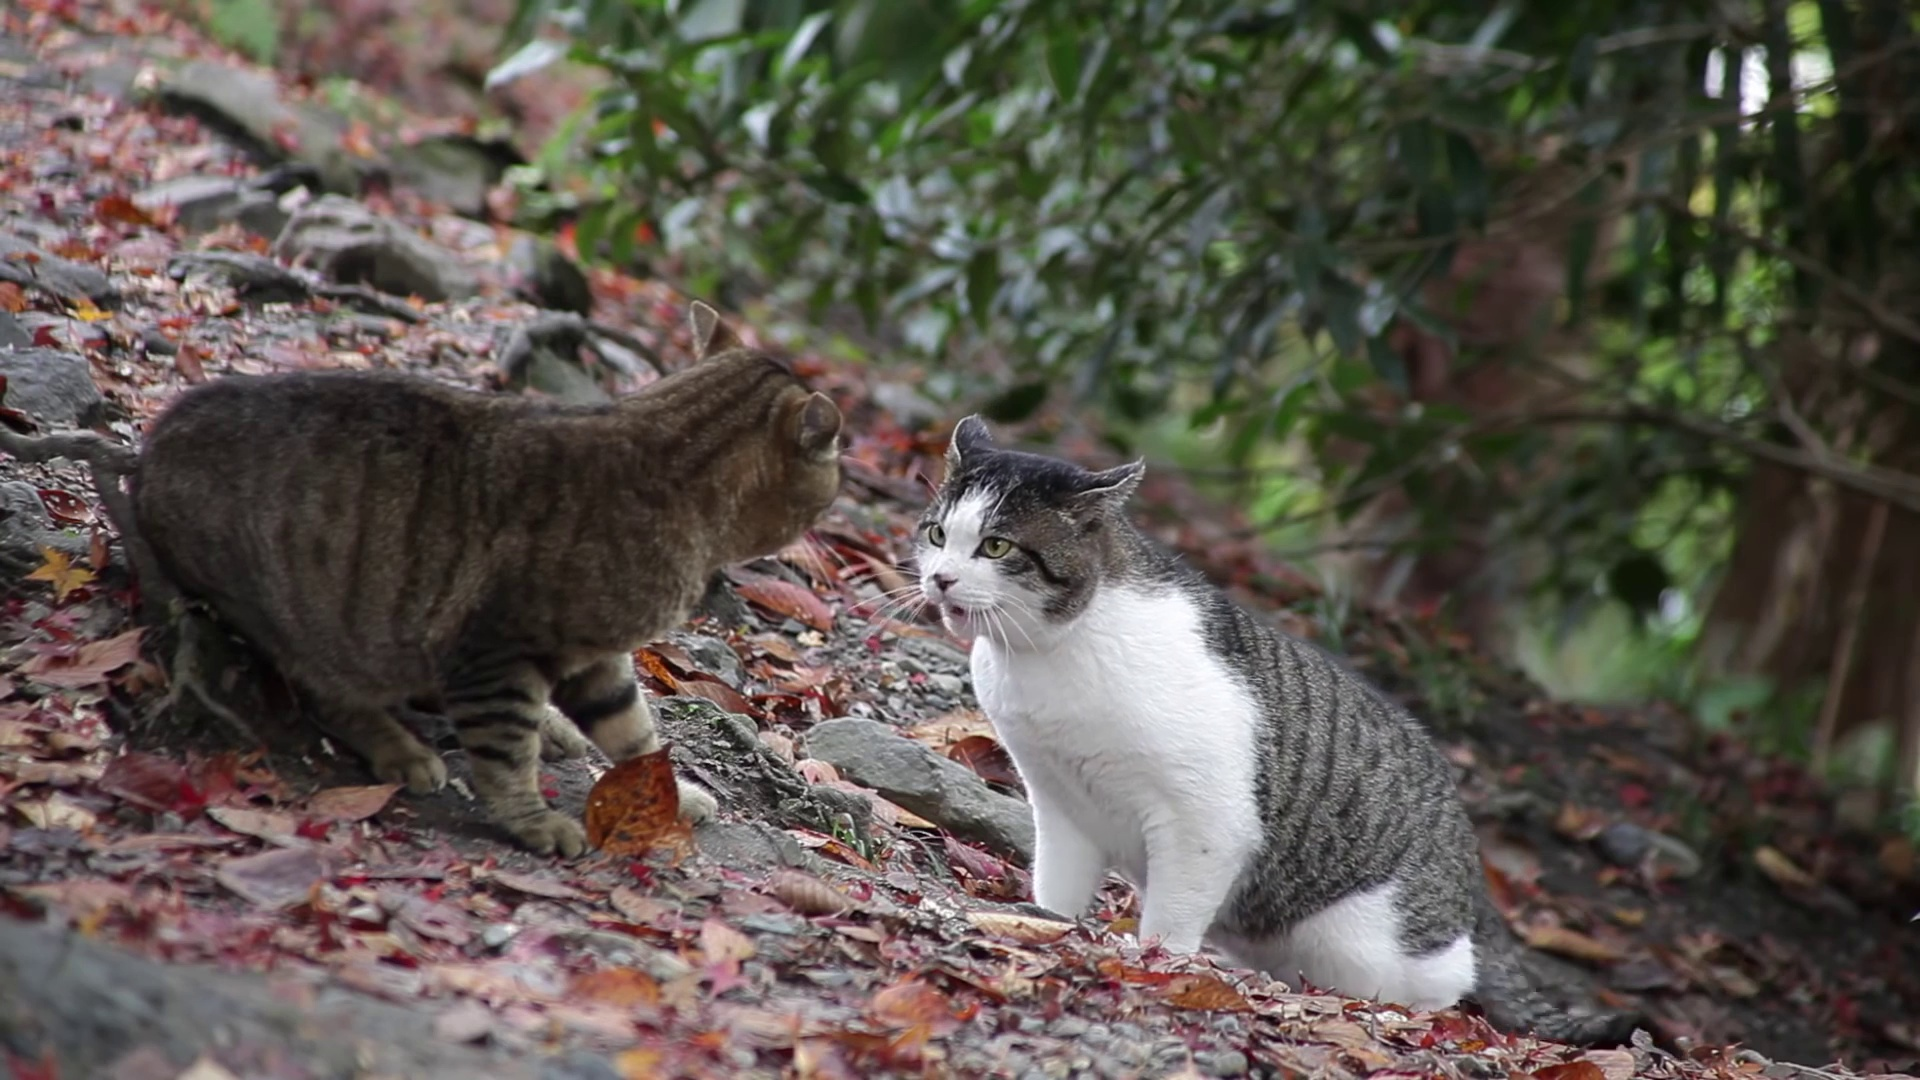black-white: (915, 414, 1477, 1009)
pure black: (135, 298, 840, 861)
